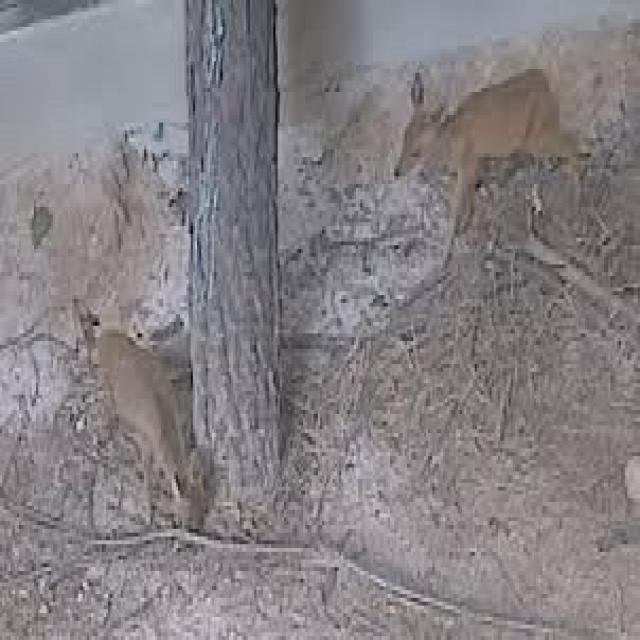elk: (375, 43, 594, 244), (74, 317, 235, 573)
